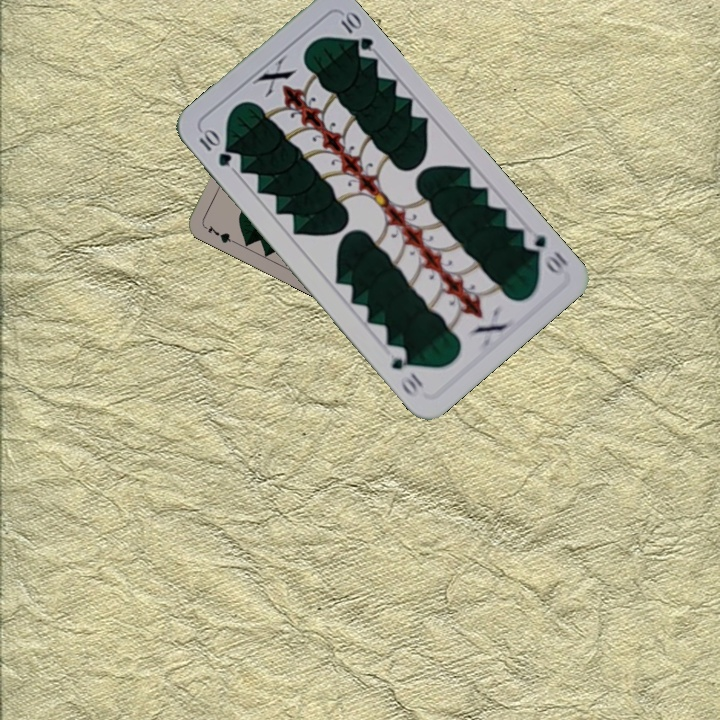G10: (518, 225, 571, 279), (194, 125, 235, 170)
G7: (200, 221, 237, 246)
